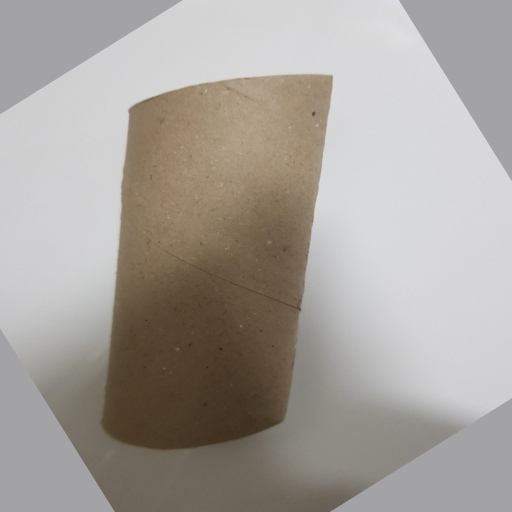Paper_0: (104, 69, 331, 447)
